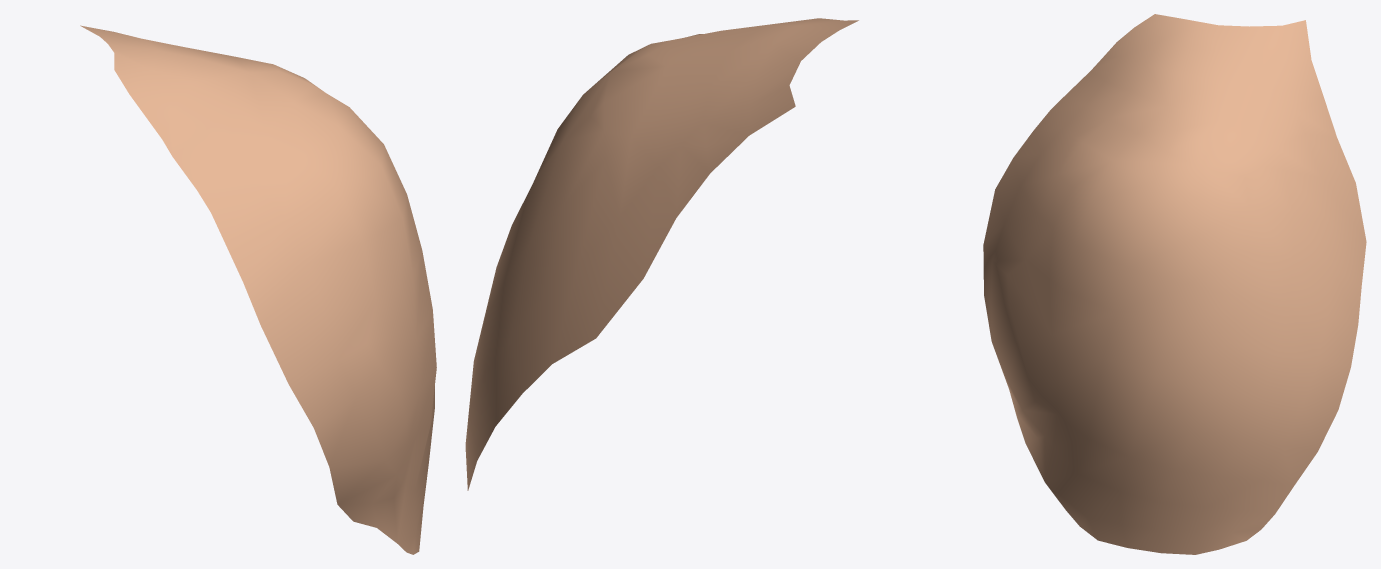
Rendered from deltoid-region-l.glb.
3 renders of one model, left to right at view 1: azimuth 30°, elevation 25°; view 2: azimuth 150°, elevation 25°; view 3: azimuth 270°, elevation 25°, orthographic. The views are drawn at different scales.
Parts seen in each view (by area): view 1: Deltoid region.l; view 2: Deltoid region.l; view 3: Deltoid region.l.
Part boxes in pixels (x1,y1,x2,y2): Deltoid region.l: [80, 25, 436, 554]; Deltoid region.l: [465, 18, 858, 490]; Deltoid region.l: [983, 14, 1366, 554].
Size of the model in its own units: 0.1068 by 0.1628 by 0.1338.
